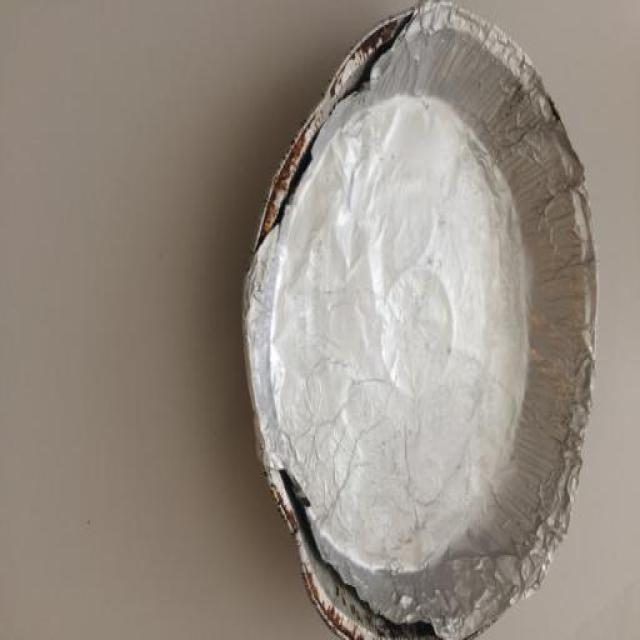Metal: (241, 0, 598, 640)
